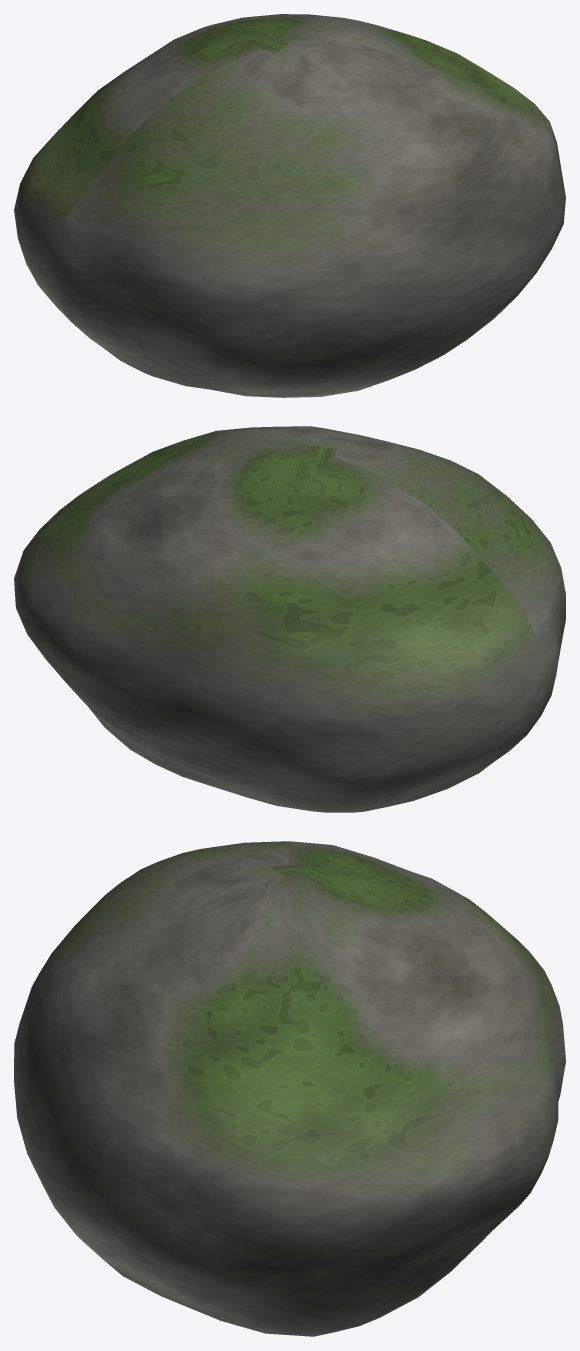
Rendered from PZ_R01_Rounded_Pebble_Moss.glb.
The picture shows the model from 3 angles, top to bottom: view 1: azimuth 30°, elevation 25°; view 2: azimuth 150°, elevation 25°; view 3: azimuth 270°, elevation 25°; orthographic projection. The views are drawn at different scales.
Parts seen in each view (by area): view 1: RENDER_R01_Rounded_Pebble_Moss; view 2: RENDER_R01_Rounded_Pebble_Moss; view 3: RENDER_R01_Rounded_Pebble_Moss.
Part boxes in pixels (x1=…): RENDER_R01_Rounded_Pebble_Moss: x1=14, y1=14, x2=565, y2=397; RENDER_R01_Rounded_Pebble_Moss: x1=14, y1=426, x2=565, y2=812; RENDER_R01_Rounded_Pebble_Moss: x1=14, y1=841, x2=565, y2=1336.
Bounding box in the file's own units: 0.3 × 0.18 × 0.24.
1 material, 1 textured.
